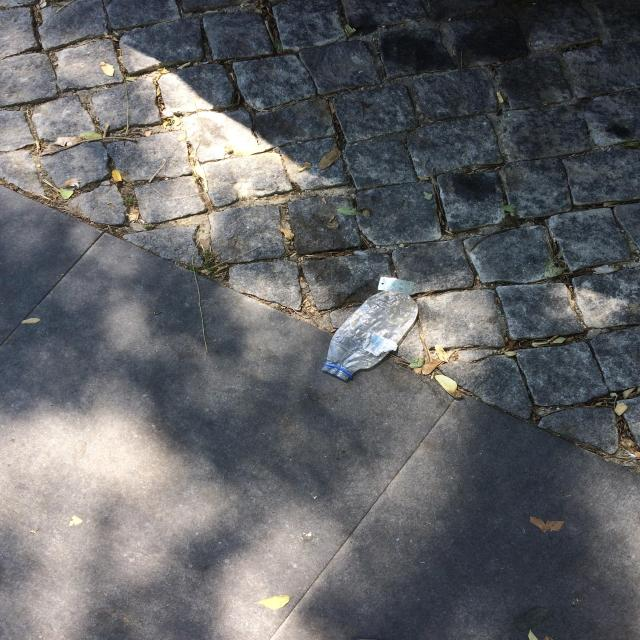litter: (298, 267, 449, 396)
